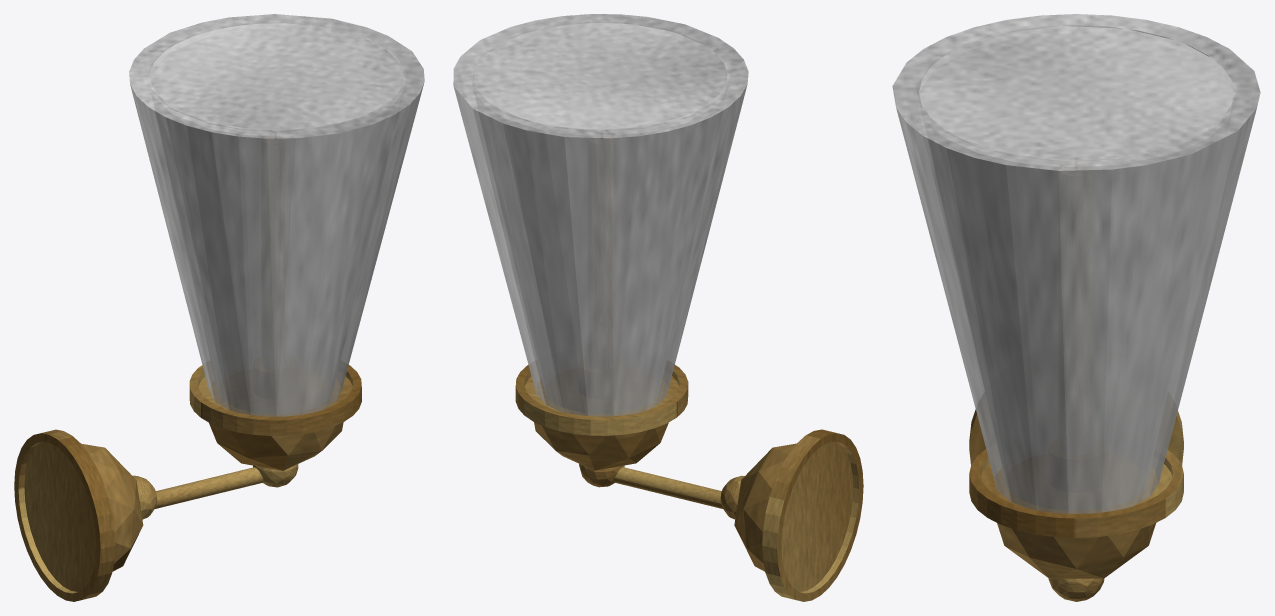
The model's file is lamp2.glb.
3 renders of one model, left to right at view 1: azimuth 30°, elevation 25°; view 2: azimuth 150°, elevation 25°; view 3: azimuth 270°, elevation 25°, orthographic. The views are drawn at different scales.
Visible parts, largest first — view 1: Cylinder.001, Sphere.001, Base1, Icosphere, Cylinder, Sphere; view 2: Cylinder.001, Sphere.001, Base1, Icosphere, Cylinder, Sphere; view 3: Cylinder.001, Base1, Icosphere, Sphere.001, Sphere.
Boxes of the visible parts, bbox=[...] form: Cylinder.001: bbox=[129, 14, 424, 416]; Sphere.001: bbox=[14, 429, 156, 601]; Base1: bbox=[189, 365, 361, 435]; Icosphere: bbox=[209, 422, 343, 470]; Cylinder: bbox=[155, 467, 263, 508]; Sphere: bbox=[253, 464, 298, 487]; Cylinder.001: bbox=[453, 14, 748, 416]; Sphere.001: bbox=[720, 429, 863, 601]; Base1: bbox=[515, 364, 688, 435]; Icosphere: bbox=[534, 422, 668, 470]; Cylinder: bbox=[614, 467, 722, 508]; Sphere: bbox=[579, 464, 624, 487]; Cylinder.001: bbox=[892, 14, 1260, 513]; Base1: bbox=[969, 449, 1183, 537]; Icosphere: bbox=[997, 523, 1155, 578]; Sphere.001: bbox=[969, 409, 1183, 464]; Sphere: bbox=[1048, 578, 1104, 601].
Size of the model in its own units: 0.0697 by 0.0894 by 0.0515.
Materials: 9 (9 with a texture image).
